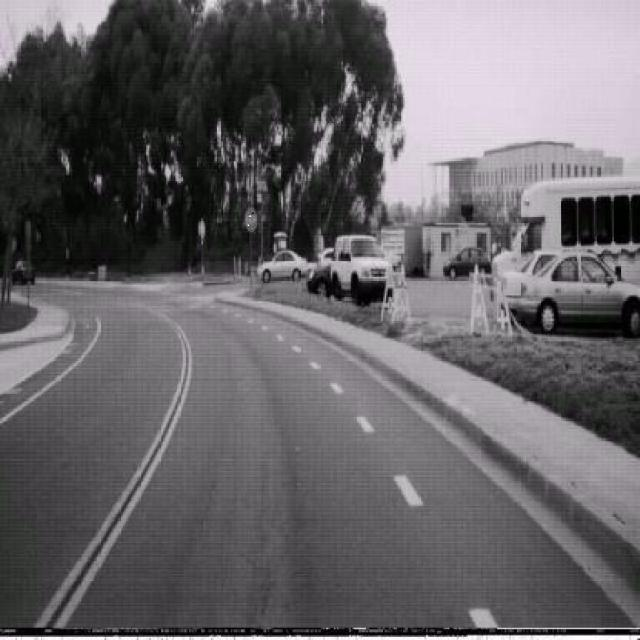stop: (243, 206, 257, 232), (198, 218, 205, 240)
